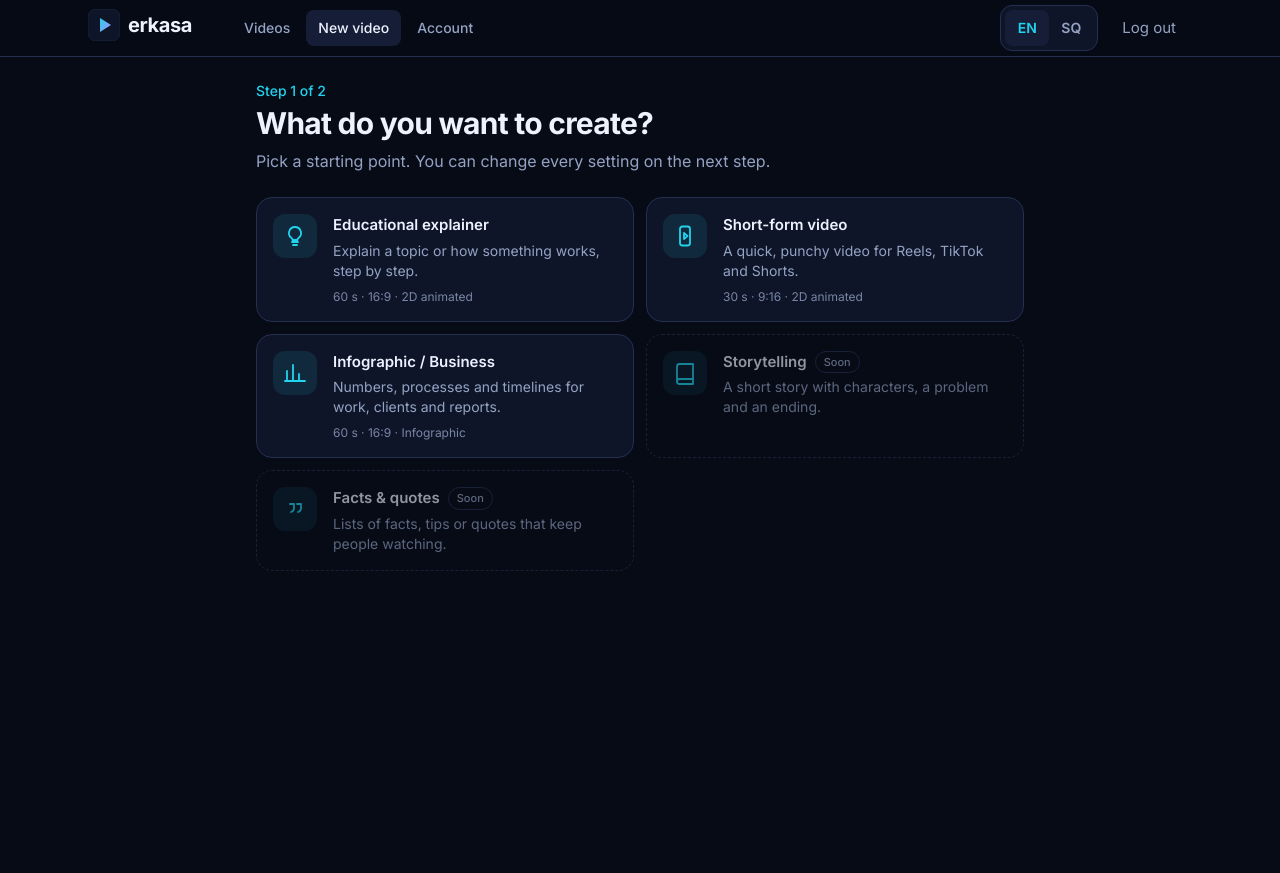
new video › hides the caption position when there are no captions, and "Change" goes back to step 1
Click the button "Short-form video" at (835, 259), box x1=646 y1=197 x2=1024 y2=322
(page scrolled)
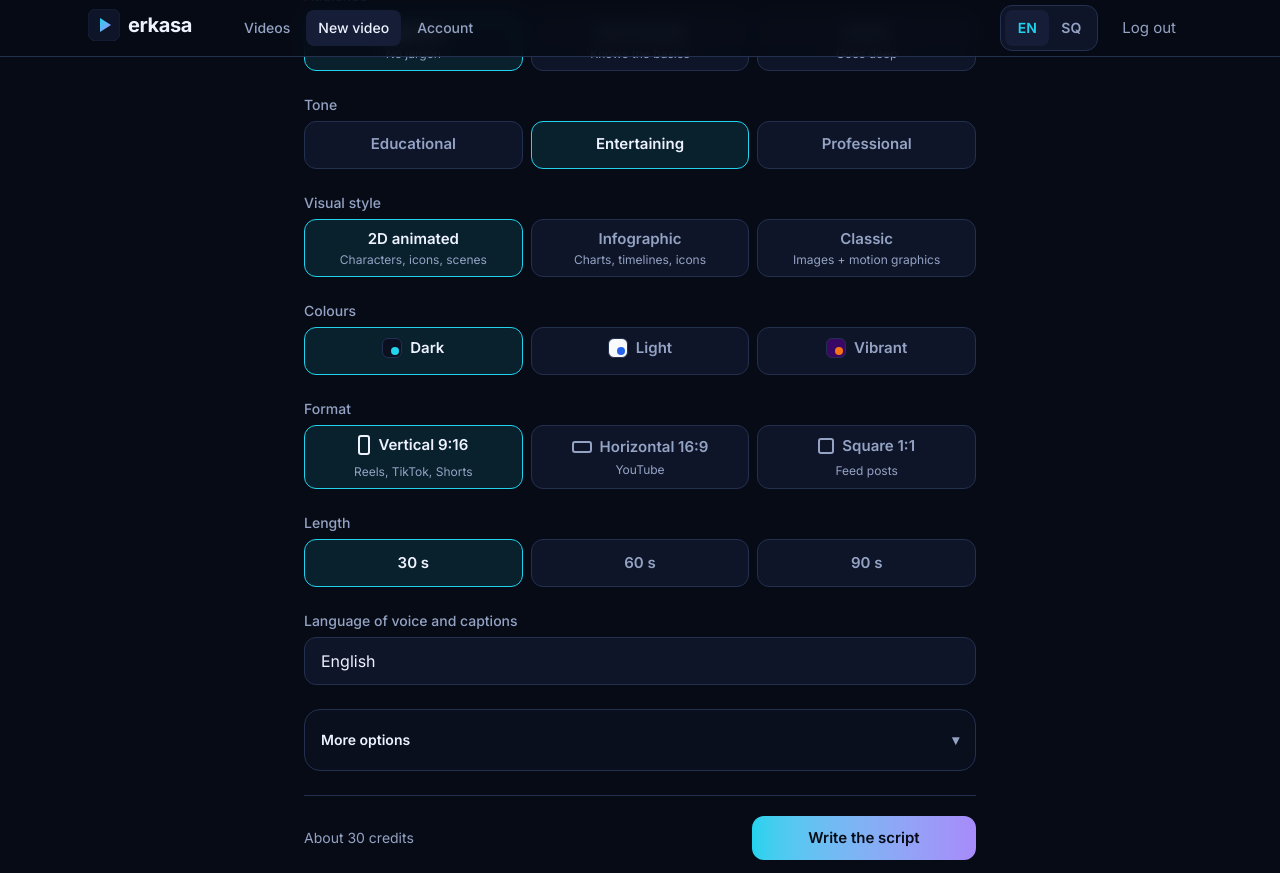
Click the heading "More options ▾" at (366, 739), box x1=321 y1=731 x2=959 y2=748
(page scrolled)
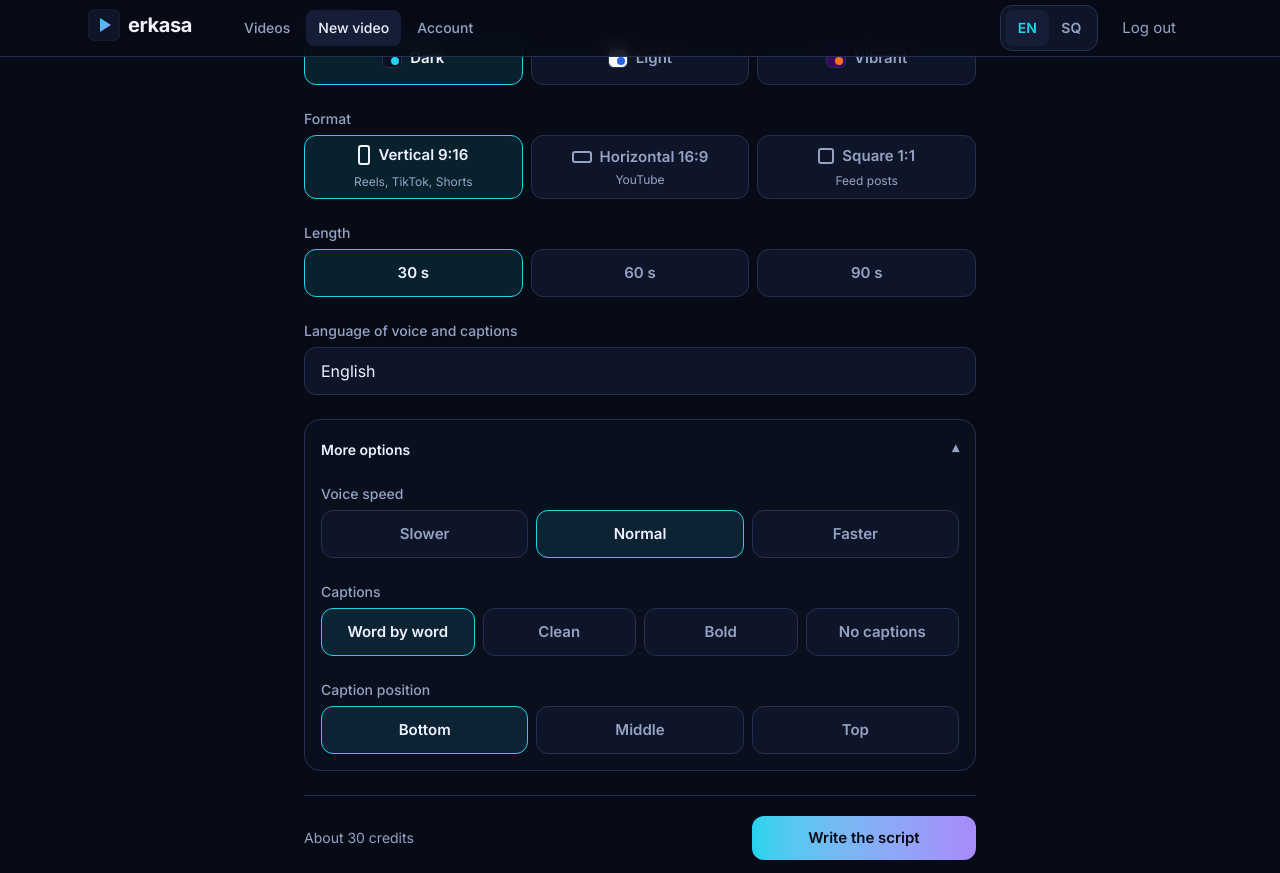
Check: the text "Caption position" is shown, box x1=321 y1=680 x2=430 y2=700
Click the radio button labelled "No captions" at (882, 632), box x1=806 y1=608 x2=959 y2=656
(page scrolled)
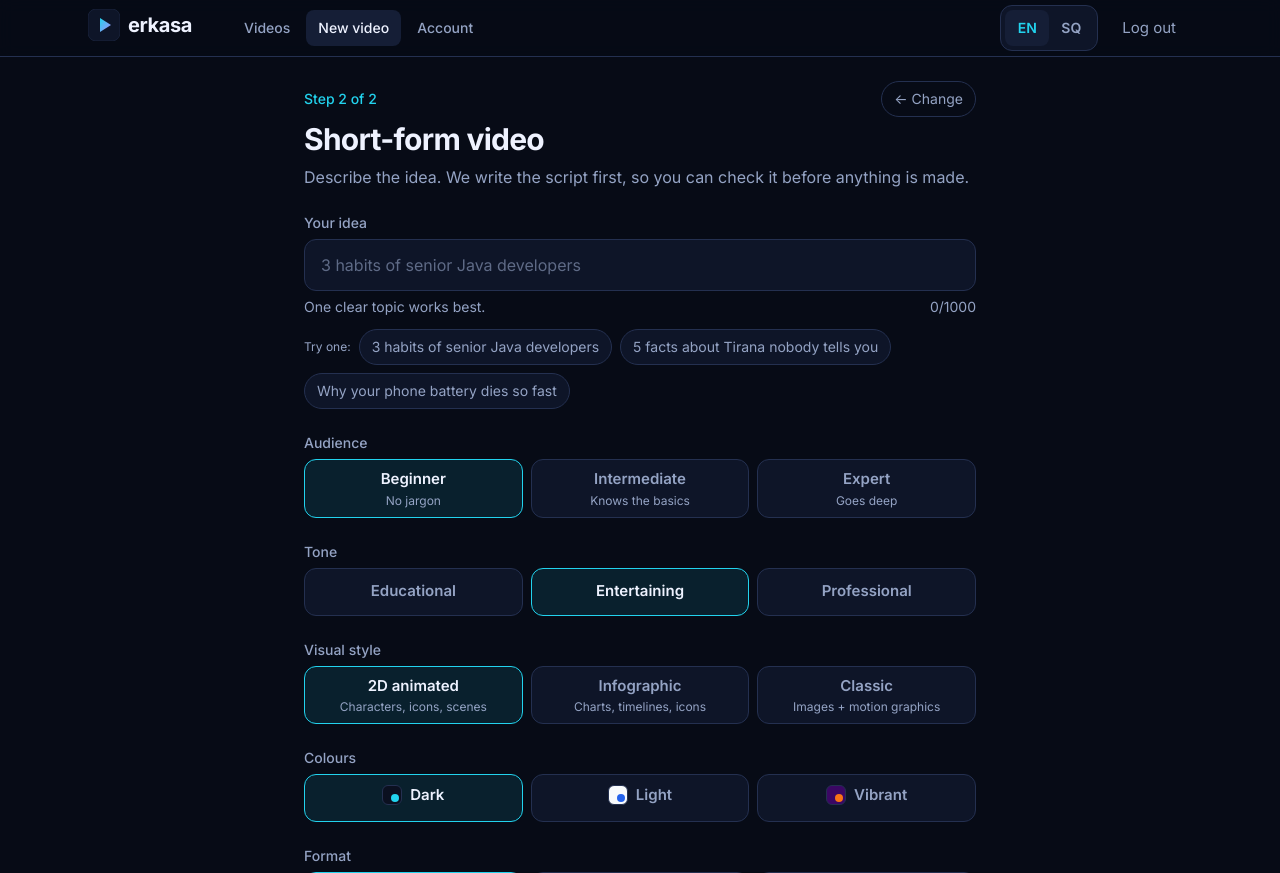
Check: the text "Caption position" is gone
Click the button "← Change" at (929, 99), box x1=881 y1=81 x2=976 y2=117
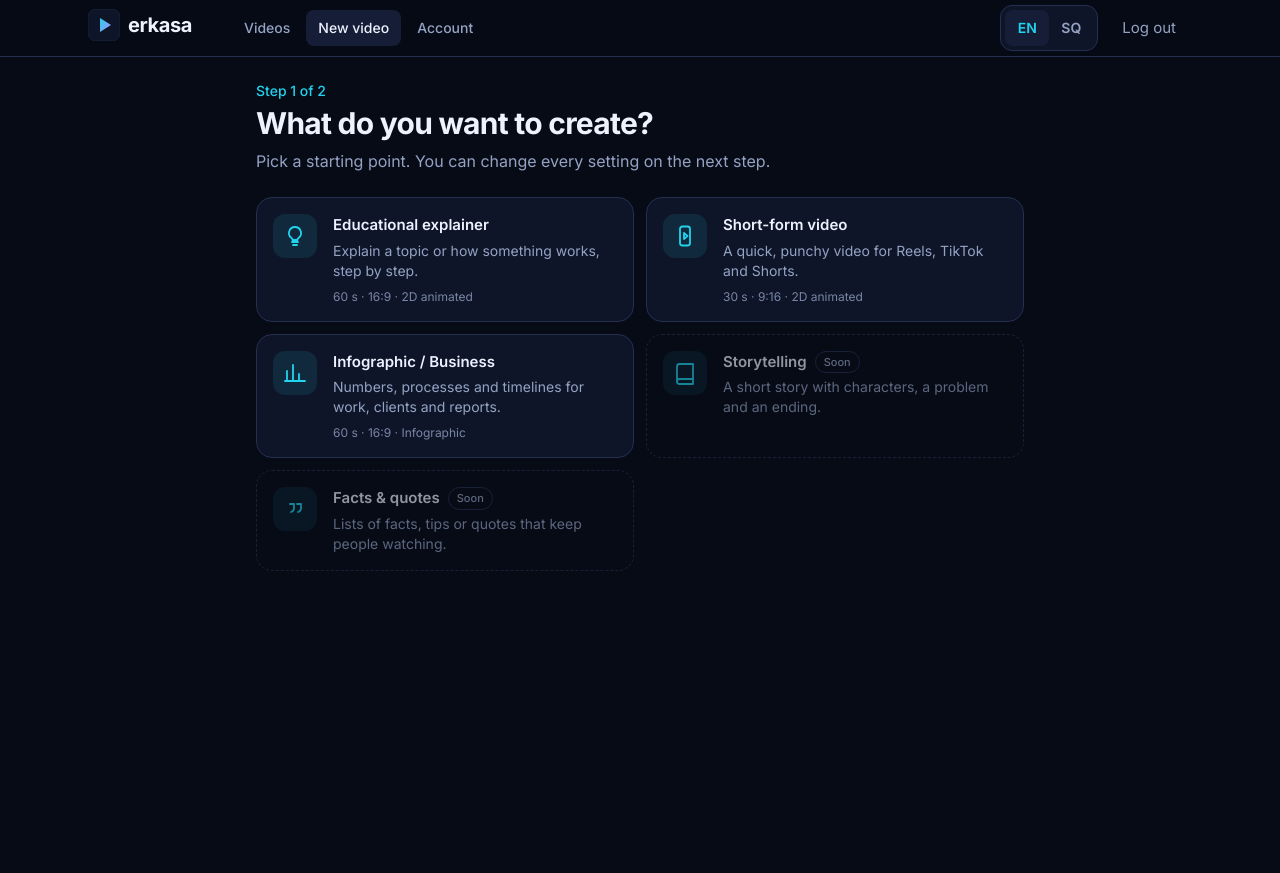
Check: the heading "What do you want to create?" is shown, box x1=256 y1=105 x2=653 y2=141
